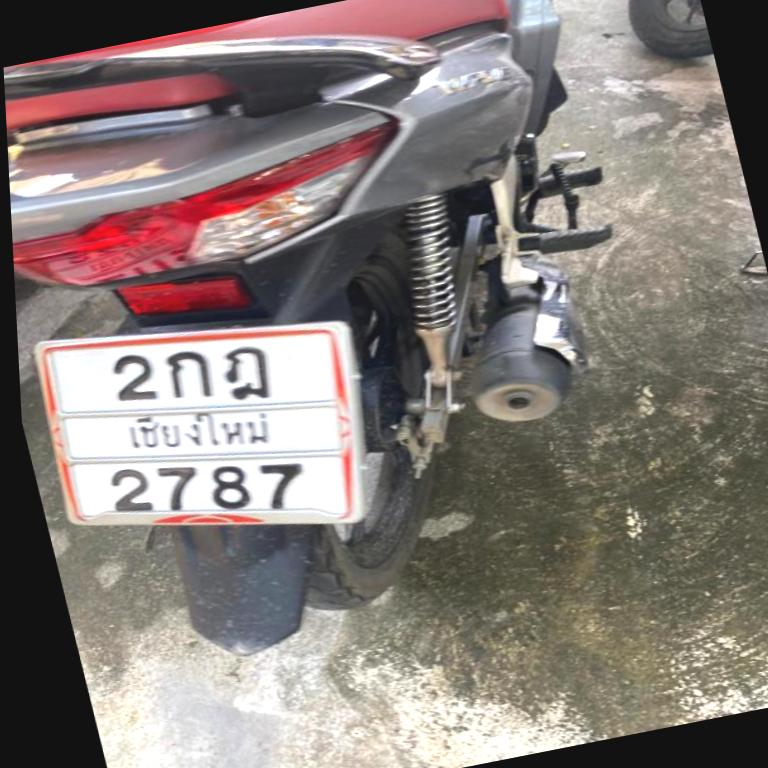license plate: (36, 323, 366, 523)
